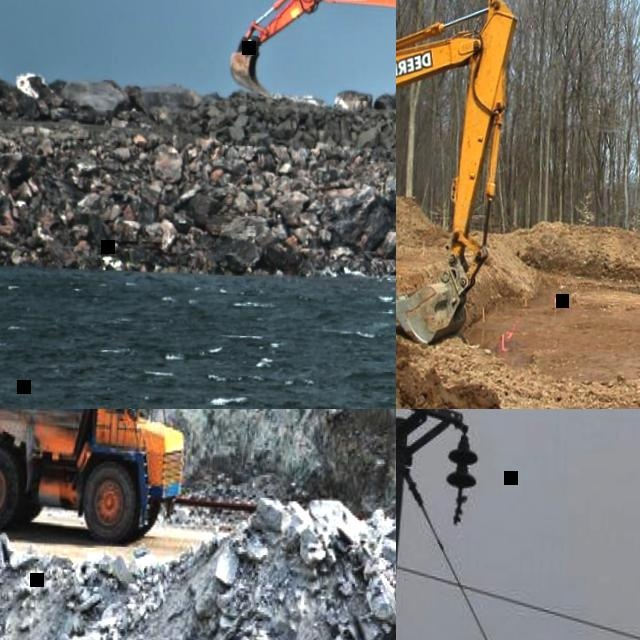machinery: (396, 0, 517, 350), (0, 409, 192, 553), (227, 0, 396, 117)
